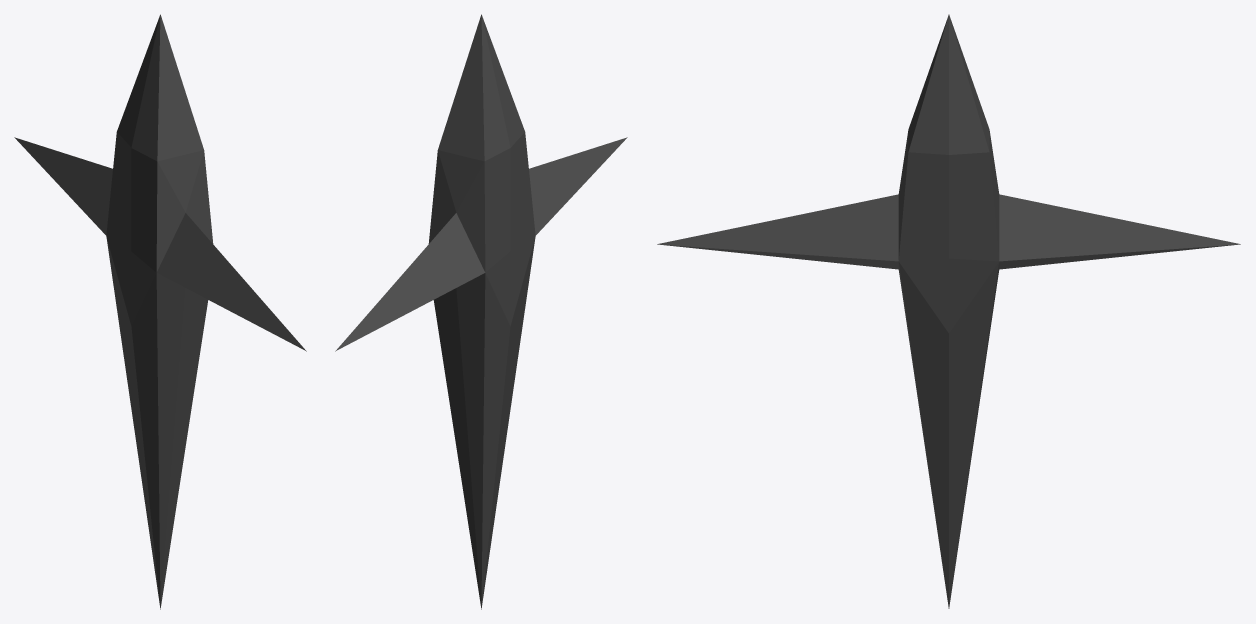
File: cross.glb
3 renders of one model, left to right at view 1: azimuth 30°, elevation 25°; view 2: azimuth 150°, elevation 25°; view 3: azimuth 270°, elevation 25°, orthographic.
Visible parts, largest first — view 1: Cube; view 2: Cube; view 3: Cube.
Boxes of the visible parts, x1,y1,x2,y2 form: Cube: (14, 14, 306, 609); Cube: (335, 14, 627, 609); Cube: (657, 14, 1240, 608).
Size of the model in its own units: 1.33 by 13.07 by 11.64.
1 material, 1 textured.
